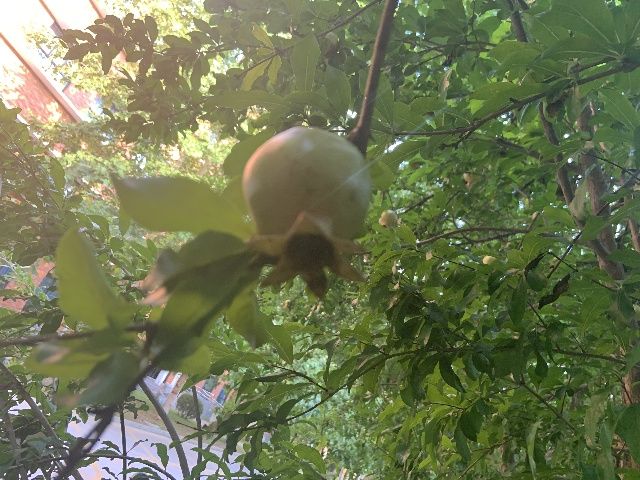mid-growth: (242, 125, 371, 299), (378, 209, 397, 229), (463, 170, 478, 186)
